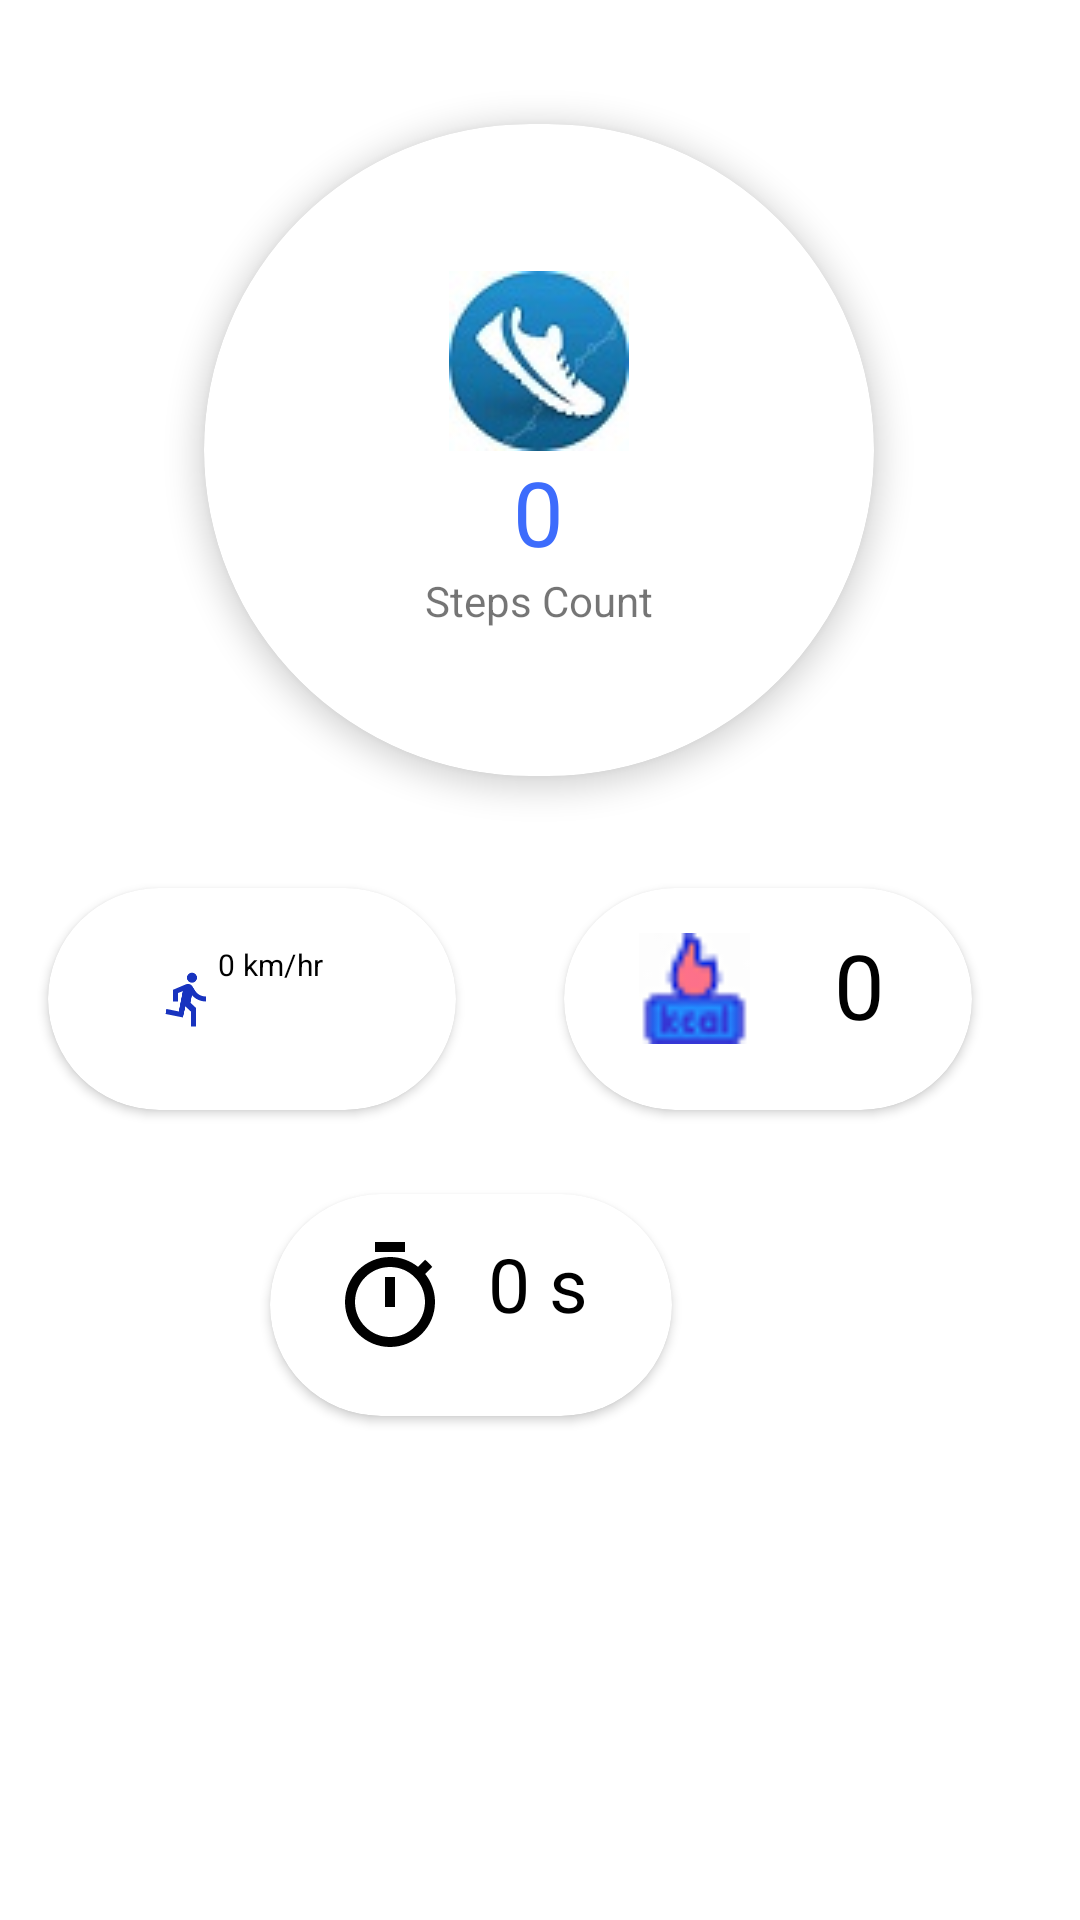

Named icons in this screenshot (1080 × 1920) and their centers, (x,y):
foot: (539,361)
